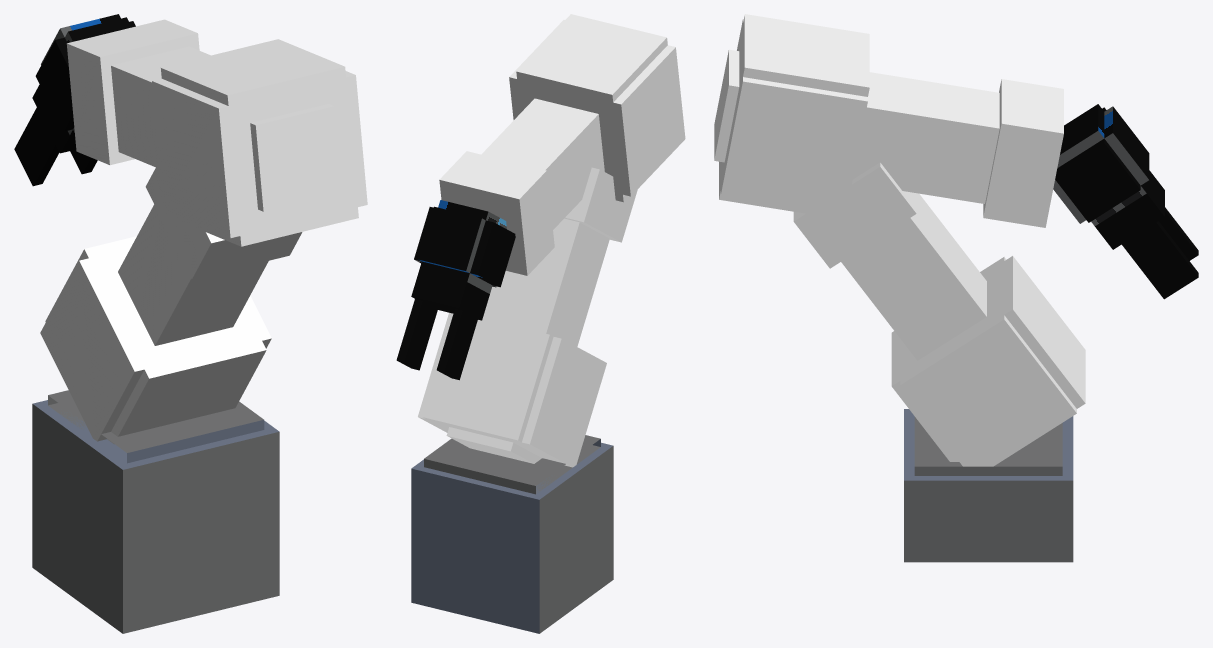
Rendered from arm_basic.obj.
3 views of the same model, side by side, from view 1: azimuth 30°, elevation 25°; view 2: azimuth 150°, elevation 25°; view 3: azimuth 270°, elevation 25° (orthographic). The views are drawn at different scales.
Visible parts, largest first — view 1: arm2, base, arm1, hand, claw; view 2: arm2, base, arm1, hand, claw; view 3: arm2, arm1, base, hand, claw.
Part boxes in pixels (box(x1,y1,x2,y2)): arm2: box(66, 19, 367, 246); base: box(32, 390, 279, 633); arm1: box(40, 162, 302, 443); hand: box(32, 14, 135, 153); claw: box(14, 95, 97, 186); arm2: box(439, 14, 685, 275); base: box(411, 435, 613, 633); arm1: box(418, 167, 637, 467); hand: box(411, 200, 515, 320); claw: box(396, 293, 483, 380); arm2: box(714, 14, 1063, 227); arm1: box(793, 162, 1085, 466); base: box(904, 409, 1073, 562); hand: box(1053, 104, 1164, 249); claw: box(1110, 207, 1198, 299).
Size of the model in its own units: 1 by 3.63 by 2.86.
